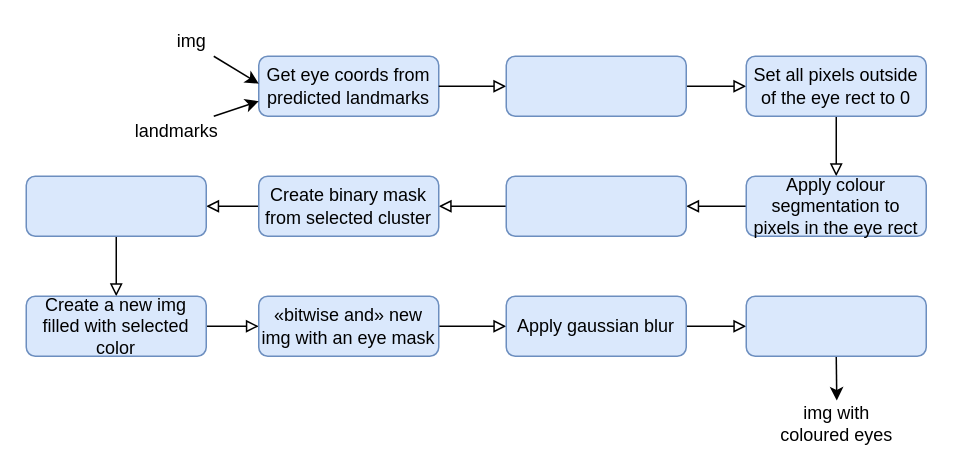
The diagram is 953 pixels wide and 471 high, and some of its shapes have lost their labels. The centre of each missing label's shape, as x and y in pixels:
Add to the orig img with a small weight assigned: the point at 835,325
Create a rectangle roughly around the eye: the point at 595,85
Remove small blobs in the mask, leaving only the largest one.: the point at 115,205
Take the cluster with the fewest pixels: the point at 595,205
